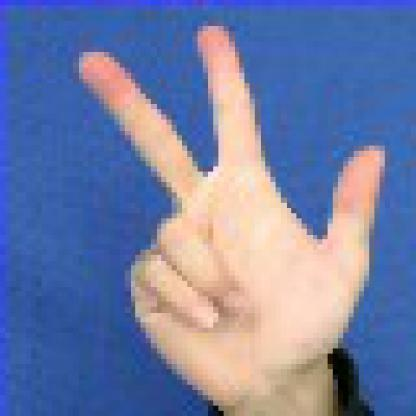eight: (58, 15, 400, 410)
